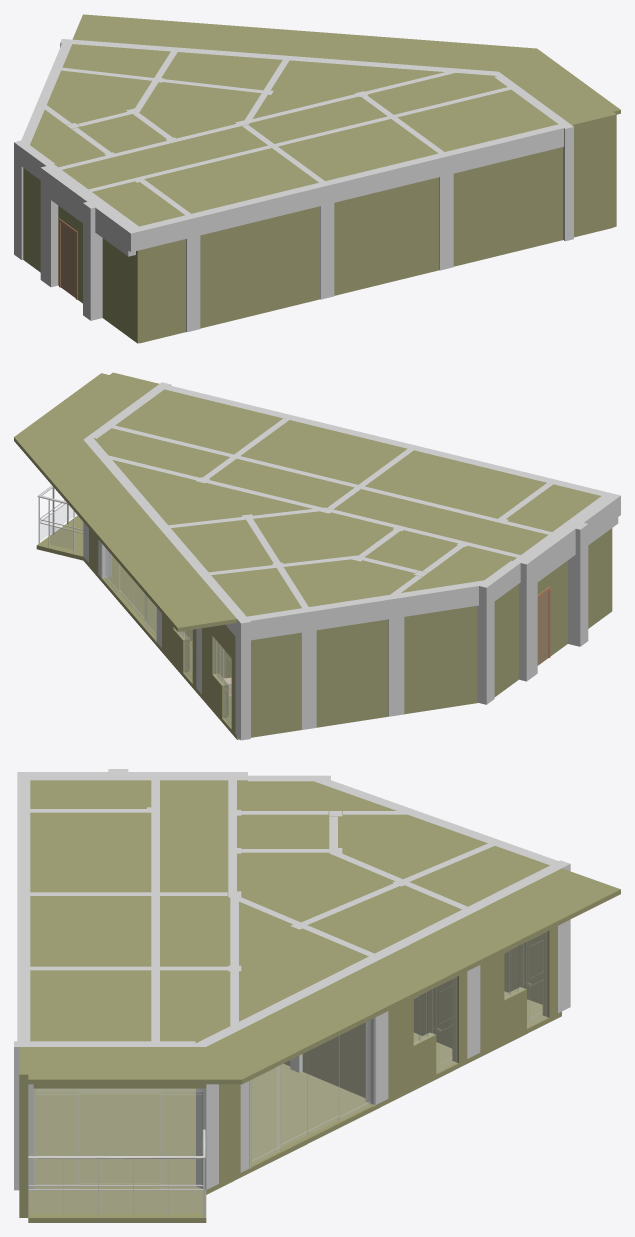
The model's file is 1-4_old.gltf.
3 views of the same model, one above another, from view 1: azimuth 30°, elevation 25°; view 2: azimuth 150°, elevation 25°; view 3: azimuth 270°, elevation 25° (orthographic). The views are drawn at different scales.
Visible parts, largest first — view 1: product-6edbb55a-52a0-4a49-8fac-9ece61594957-body, product-6edbb55a-52a0-4a49-8fac-9ece61584d9c-body, product-6edbb55a-52a0-4a49-8fac-9ece615f76d0-body, product-6edbb55a-52a0-4a49-8fac-9ece61584ce6-body, product-6edbb55a-52a0-4a49-8fac-9ece61591d7c-body, product-6edbb55a-52a0-4a49-8fac-9ece61584f52-body, product-6edbb55a-52a0-4a49-8fac-9ece615f0e51-body, product-6edbb55a-52a0-4a49-8fac-9ece615f0e66-body, product-6edbb55a-52a0-4a49-8fac-9ece61585f17-body, product-6edbb55a-52a0-4a49-8fac-9ece615f0e49-body, product-6edbb55a-52a0-4a49-8fac-9ece615f55a9-body, product-89fb39e2-789d-4ac5-93a1-f93357b4e028-body (+21 smaller); view 2: product-6edbb55a-52a0-4a49-8fac-9ece61594957-body, product-89fb39e2-789d-4ac5-93a1-f93357b4c5e4-body, product-89fb39e2-789d-4ac5-93a1-f93357b3f7fb-body, product-89fb39e2-789d-4ac5-93a1-f93357b3cf03-body, product-6edbb55a-52a0-4a49-8fac-9ece6158c4d2-body, product-6edbb55a-52a0-4a49-8fac-9ece61584793-body, product-6edbb55a-52a0-4a49-8fac-9ece615f55a9-body, product-89fb39e2-789d-4ac5-93a1-f93357b4c73d-body, product-89fb39e2-789d-4ac5-93a1-f93357b4e028-body, product-89fb39e2-789d-4ac5-93a1-f93357b48936-body, product-89fb39e2-789d-4ac5-93a1-f93357b3f4e0-body, product-89fb39e2-789d-4ac5-93a1-f93357b48e3f-body (+24 smaller); view 3: product-6edbb55a-52a0-4a49-8fac-9ece61594957-body, product-6edbb55a-52a0-4a49-8fac-9ece6158c4d2-body, product-6edbb55a-52a0-4a49-8fac-9ece615803be-body, product-6edbb55a-52a0-4a49-8fac-9ece61580354-body, product-6edbb55a-52a0-4a49-8fac-9ece61591d51-body, product-6edbb55a-52a0-4a49-8fac-9ece61584b3f-body, product-6edbb55a-52a0-4a49-8fac-9ece61584793-body, product-6edbb55a-52a0-4a49-8fac-9ece615848f4-body, product-6edbb55a-52a0-4a49-8fac-9ece615815d2-body, product-6edbb55a-52a0-4a49-8fac-9ece6158143c-body, product-6edbb55a-52a0-4a49-8fac-9ece615f2e01-body, product-6edbb55a-52a0-4a49-8fac-9ece615f2e30-body (+24 smaller).
Boxes of the visible parts, x1,y1,x2,y2 form: product-6edbb55a-52a0-4a49-8fac-9ece61594957-body: [30, 14, 620, 226]; product-6edbb55a-52a0-4a49-8fac-9ece61584d9c-body: [200, 206, 319, 327]; product-6edbb55a-52a0-4a49-8fac-9ece615f76d0-body: [453, 147, 562, 266]; product-6edbb55a-52a0-4a49-8fac-9ece61584ce6-body: [334, 177, 439, 295]; product-6edbb55a-52a0-4a49-8fac-9ece61591d7c-body: [569, 112, 616, 236]; product-6edbb55a-52a0-4a49-8fac-9ece61584f52-body: [134, 239, 185, 343]; product-6edbb55a-52a0-4a49-8fac-9ece615f0e51-body: [195, 183, 320, 235]; product-6edbb55a-52a0-4a49-8fac-9ece615f0e66-body: [448, 124, 563, 173]; product-6edbb55a-52a0-4a49-8fac-9ece61585f17-body: [102, 238, 133, 340]; product-6edbb55a-52a0-4a49-8fac-9ece615f0e49-body: [329, 154, 439, 202]; product-6edbb55a-52a0-4a49-8fac-9ece615f55a9-body: [83, 198, 108, 320]; product-89fb39e2-789d-4ac5-93a1-f93357b4e028-body: [40, 164, 63, 287]; product-6edbb55a-52a0-4a49-8fac-9ece61594957-body: [14, 373, 601, 631]; product-89fb39e2-789d-4ac5-93a1-f93357b4c5e4-body: [404, 606, 477, 713]; product-89fb39e2-789d-4ac5-93a1-f93357b3f7fb-body: [316, 619, 388, 726]; product-89fb39e2-789d-4ac5-93a1-f93357b3cf03-body: [251, 632, 300, 736]; product-6edbb55a-52a0-4a49-8fac-9ece6158c4d2-body: [36, 515, 477, 739]; product-6edbb55a-52a0-4a49-8fac-9ece61584793-body: [202, 624, 235, 733]; product-6edbb55a-52a0-4a49-8fac-9ece615f55a9-body: [562, 519, 588, 646]; product-89fb39e2-789d-4ac5-93a1-f93357b4c73d-body: [494, 584, 518, 696]; product-89fb39e2-789d-4ac5-93a1-f93357b4e028-body: [513, 553, 537, 681]; product-89fb39e2-789d-4ac5-93a1-f93357b48936-body: [477, 579, 494, 704]; product-89fb39e2-789d-4ac5-93a1-f93357b3f4e0-body: [401, 578, 500, 616]; product-89fb39e2-789d-4ac5-93a1-f93357b48e3f-body: [385, 593, 404, 716]; product-6edbb55a-52a0-4a49-8fac-9ece61594957-body: [28, 780, 620, 1084]; product-6edbb55a-52a0-4a49-8fac-9ece6158c4d2-body: [28, 991, 561, 1222]; product-6edbb55a-52a0-4a49-8fac-9ece615803be-body: [33, 1088, 205, 1190]; product-6edbb55a-52a0-4a49-8fac-9ece61580354-body: [249, 1017, 375, 1168]; product-6edbb55a-52a0-4a49-8fac-9ece61591d51-body: [28, 1129, 205, 1217]; product-6edbb55a-52a0-4a49-8fac-9ece61584b3f-body: [388, 971, 467, 1098]; product-6edbb55a-52a0-4a49-8fac-9ece61584793-body: [480, 926, 557, 1052]; product-6edbb55a-52a0-4a49-8fac-9ece615848f4-body: [302, 1022, 365, 1098]; product-6edbb55a-52a0-4a49-8fac-9ece615815d2-body: [413, 976, 457, 1072]; product-6edbb55a-52a0-4a49-8fac-9ece6158143c-body: [504, 931, 548, 1027]; product-6edbb55a-52a0-4a49-8fac-9ece615f2e01-body: [196, 1037, 218, 1189]; product-6edbb55a-52a0-4a49-8fac-9ece615f2e30-body: [365, 952, 388, 1104].
Size of the model in its own units: 16.73 by 3.72 by 13.82.
